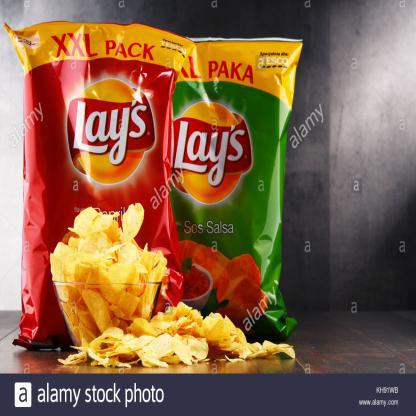tangy_tomato: (4, 19, 178, 355)
